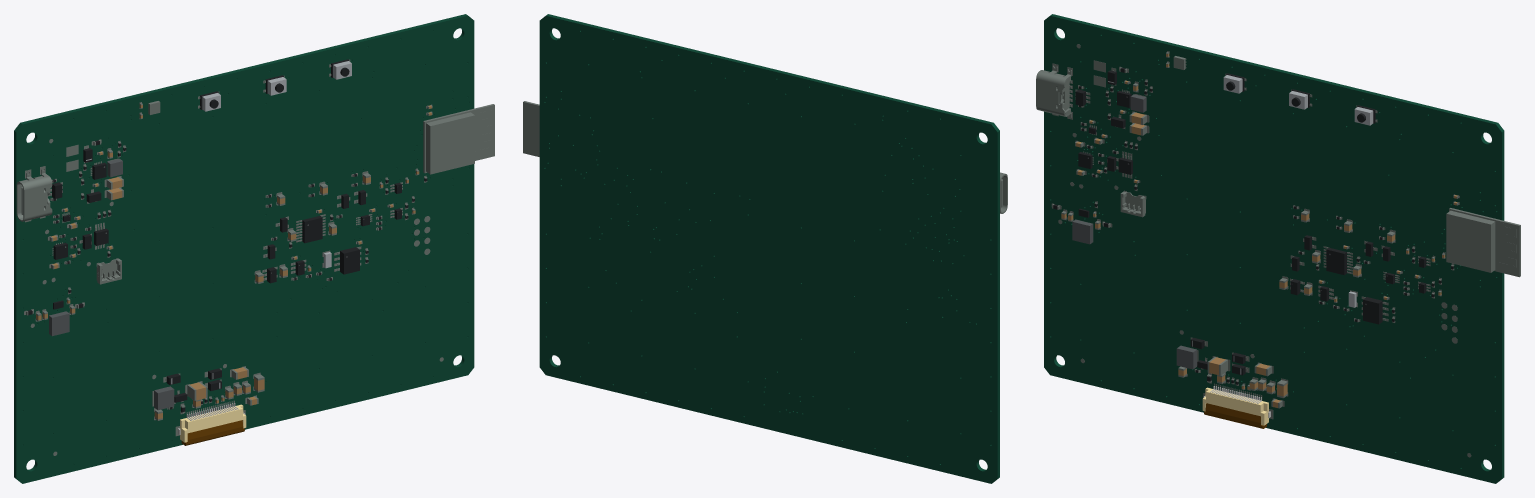
File: pcb.glb
3 renders of one model, left to right at view 1: azimuth 30°, elevation 25°; view 2: azimuth 150°, elevation 25°; view 3: azimuth 330°, elevation 25°, orthographic.
Visible parts, largest first — view 1: PCB_1mm, U201, Exposed_lands, J301, J101, U405, J102, U403; view 2: PCB_1mm, U201; view 3: PCB_1mm, U201, Exposed_lands, J301, J101, U405, J102, U403.
Boxes of the visible parts, x1,y1,x2,y2 form: PCB_1mm: [14, 14, 474, 483]; U201: [423, 104, 494, 174]; Exposed_lands: [24, 59, 443, 455]; J301: [178, 403, 246, 445]; J101: [16, 168, 52, 221]; U405: [299, 215, 323, 243]; J102: [96, 259, 121, 284]; U403: [337, 247, 359, 274]; PCB_1mm: [539, 14, 999, 483]; U201: [523, 101, 539, 156]; PCB_1mm: [1044, 14, 1504, 483]; U201: [1446, 208, 1520, 277]; Exposed_lands: [1051, 44, 1471, 457]; J301: [1202, 386, 1270, 428]; J101: [1036, 65, 1071, 117]; U405: [1326, 247, 1350, 275]; J102: [1120, 191, 1145, 217]; U403: [1363, 297, 1385, 324].
Size of the model in its own units: 0.1167 by 0.084 by 0.00431.
